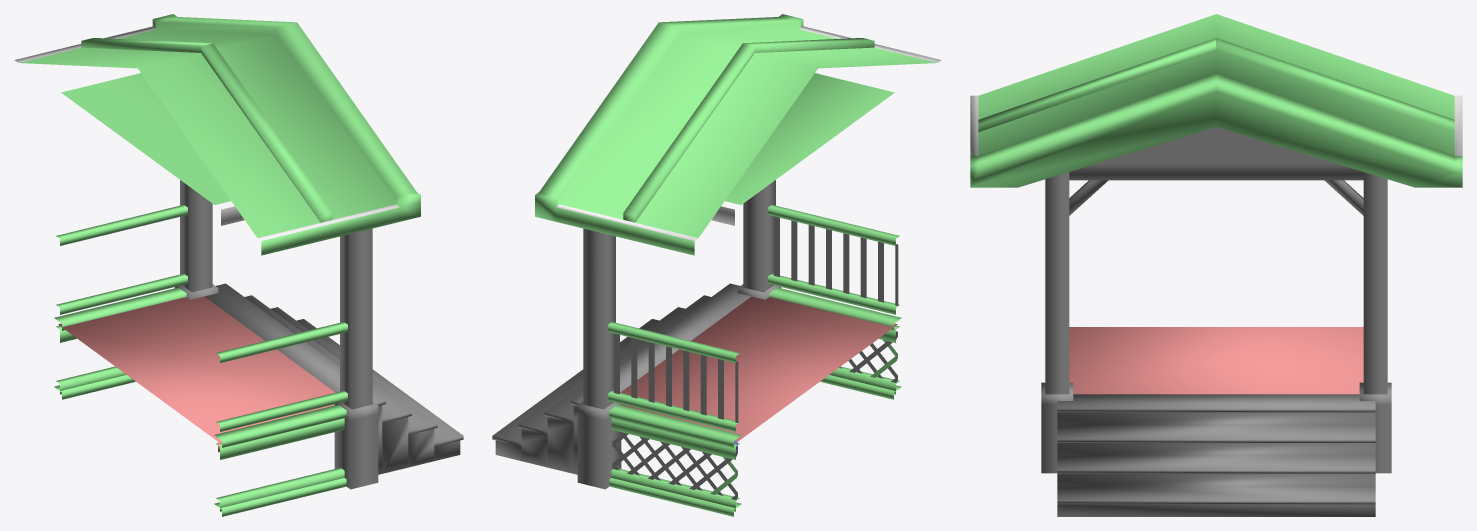
The model's file is SM_veranda_02_short.gltf.
3 renders of one model, left to right at view 1: azimuth 30°, elevation 25°; view 2: azimuth 150°, elevation 25°; view 3: azimuth 270°, elevation 25°, orthographic.
Visible parts, largest first — view 1: SM_veranda_02_short; view 2: SM_veranda_02_short; view 3: SM_veranda_02_short.
Boxes of the visible parts, x1=… form: SM_veranda_02_short: x1=14, y1=14, x2=463, y2=516; SM_veranda_02_short: x1=492, y1=14, x2=941, y2=516; SM_veranda_02_short: x1=970, y1=14, x2=1462, y2=516.
Size of the model in its own units: 3.55 by 5.44 by 6.18.
